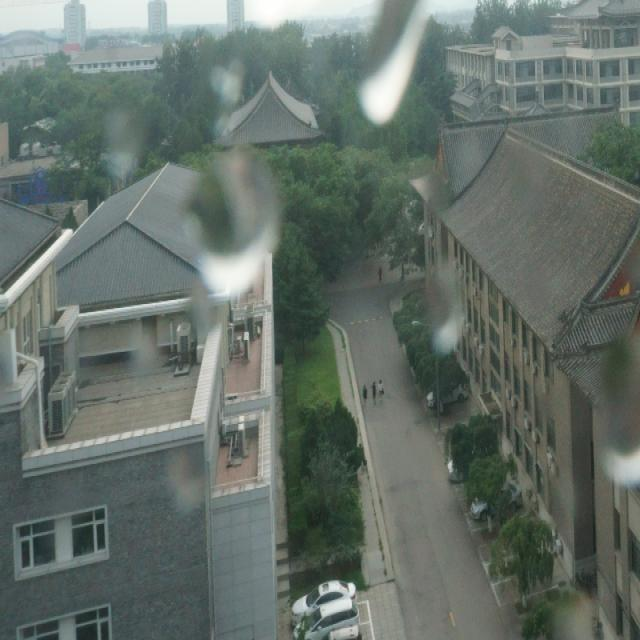raindrop: (184, 148, 286, 306), (356, 0, 428, 129), (602, 332, 640, 494), (412, 250, 465, 358), (172, 415, 220, 526), (128, 322, 180, 400), (100, 111, 144, 189), (545, 468, 582, 541), (209, 52, 251, 114), (550, 585, 592, 640)
